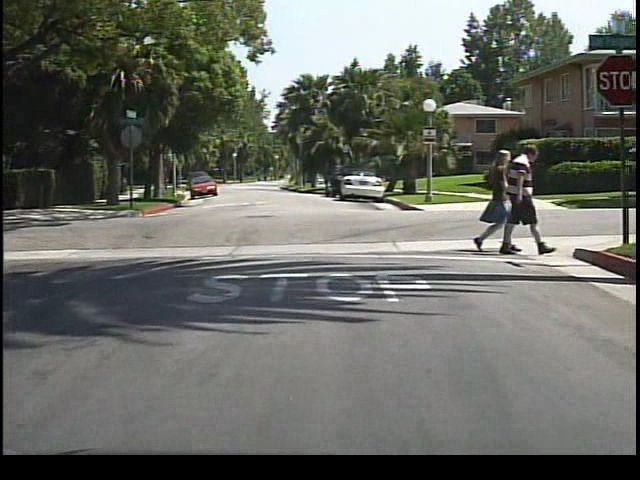person: (496, 143, 550, 260), (473, 147, 507, 251)
